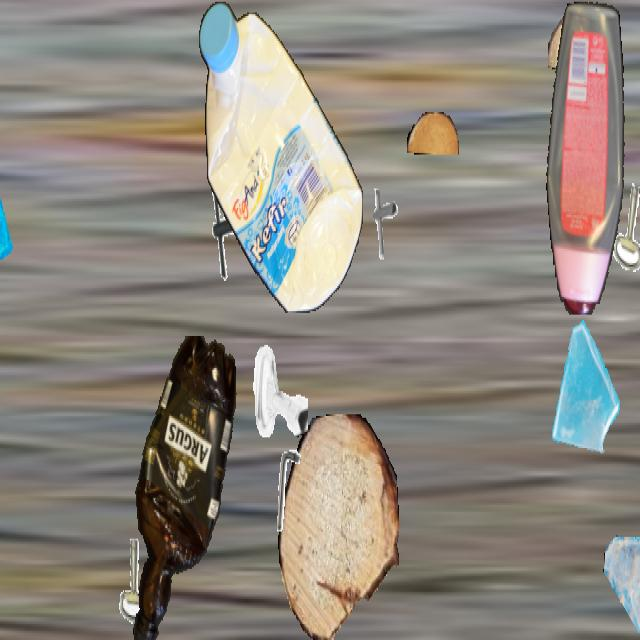glass: (541, 318, 621, 461), (603, 532, 640, 638), (0, 176, 16, 290)
metal: (201, 176, 261, 283), (250, 340, 308, 442), (109, 532, 165, 631), (263, 442, 317, 538), (605, 178, 640, 277), (361, 183, 405, 261)
plastic: (199, 2, 363, 311), (123, 336, 243, 638), (545, 2, 629, 314)
wood: (278, 414, 398, 638), (548, 16, 622, 73), (407, 112, 459, 155)
